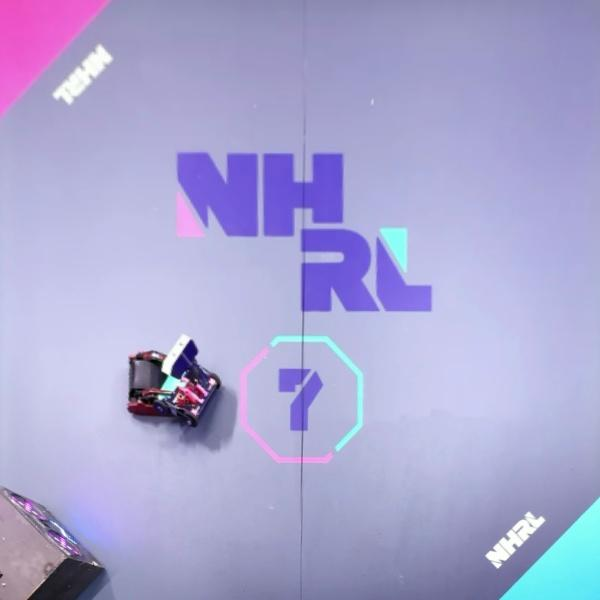housebot: (0, 485, 108, 600)
robot: (154, 335, 223, 430), (126, 349, 184, 416)
